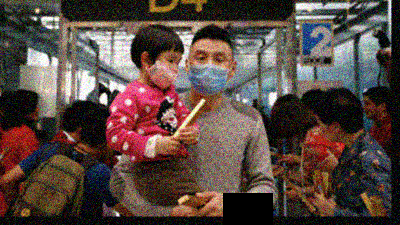with_mask: (189, 47, 232, 95), (149, 54, 180, 90)
without_mask: (363, 99, 381, 119), (26, 100, 41, 121)
